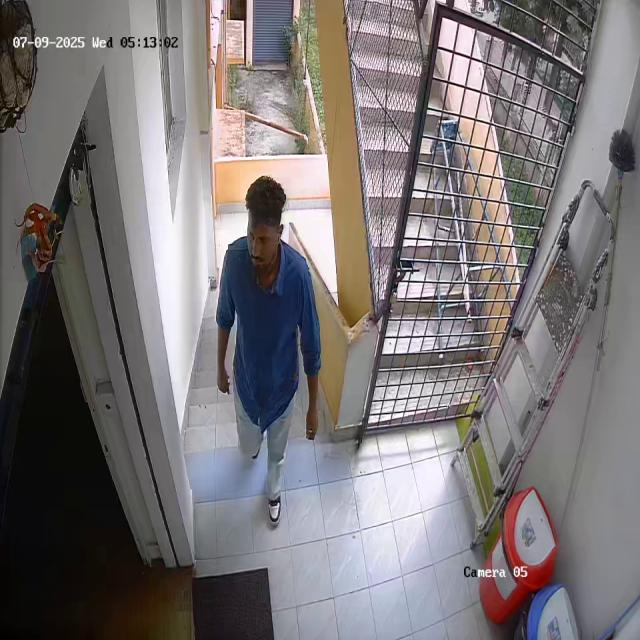person: (208, 170, 321, 521)
